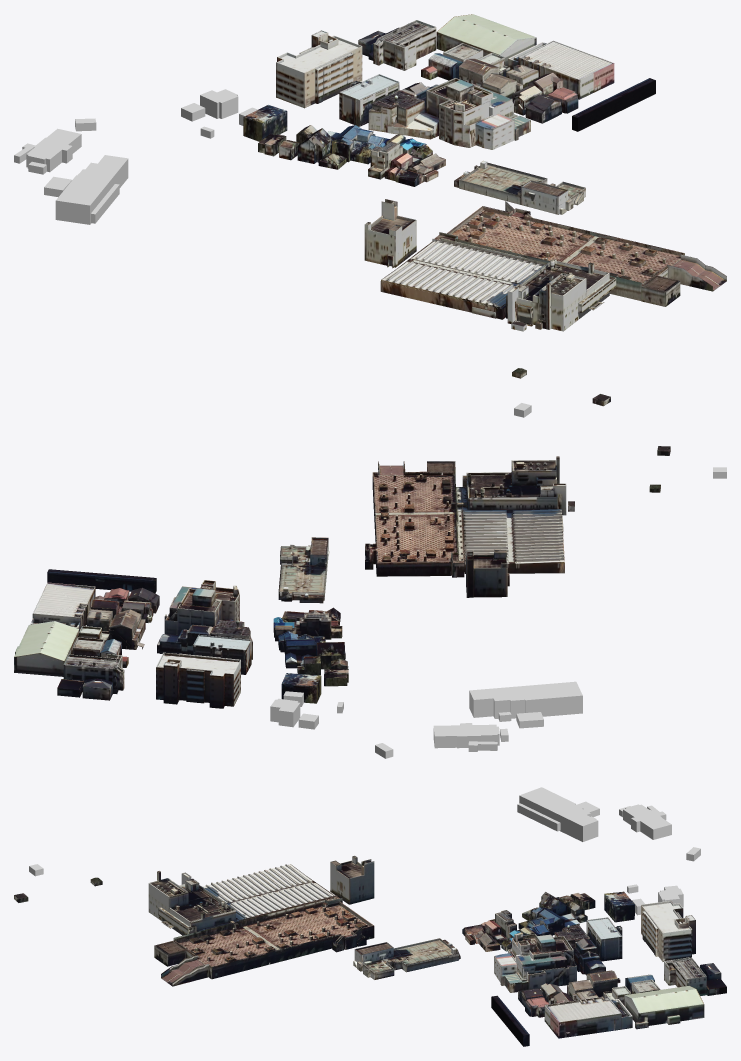
Rendered from lod3-station-1-0-packed.glb.
The picture shows the model from 3 angles, top to bottom: view 1: azimuth 30°, elevation 25°; view 2: azimuth 150°, elevation 25°; view 3: azimuth 270°, elevation 25°; orthographic projection. The views are drawn at different scales.
Bounding box in the file's own units: 265 × 23.2 × 338.
5 materials, 4 textured.
